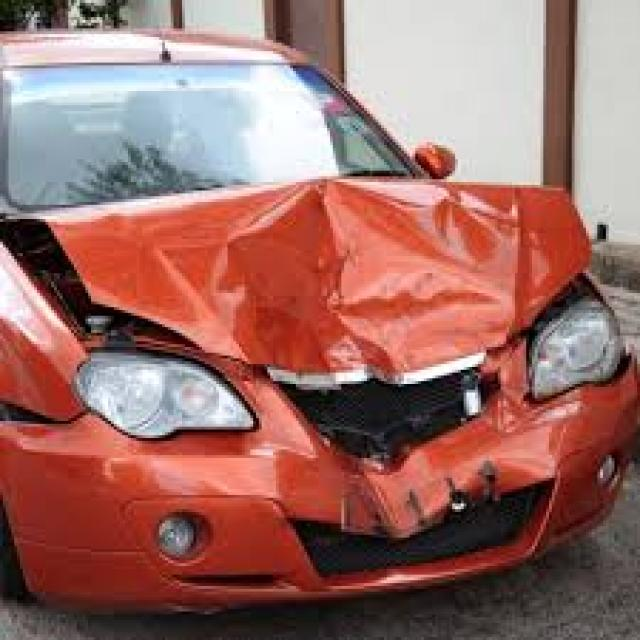moderate: (62, 182, 640, 459)
